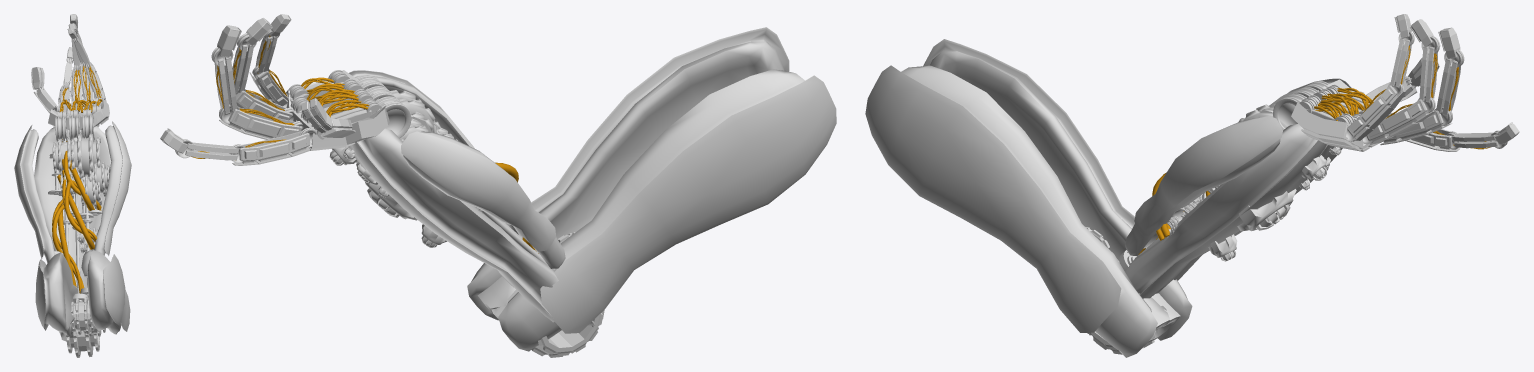
Rendered from arm.glb.
3 views of the same model, side by side, from view 1: azimuth 30°, elevation 25°; view 2: azimuth 150°, elevation 25°; view 3: azimuth 270°, elevation 25° (orthographic). The views are drawn at different scales.
Parts seen in each view (by area): view 1: Tube, Cube_1, Cube, Tube_3, Cylinder, Sweep_4, Sweep_1, brazo, mano, Sweep, Cube_6, Cube_2 (+7 smaller); view 2: Cube, Tube, Cube_1, Cylinder, Cube_3, Tube_3, Cube_4_4, mano, Cube_4_3, Cube_5, Cube_4_2, Cube_4_5 (+3 smaller); view 3: Cube_1, Tube, Cube, Cylinder, Cube_6, Cube_5, mano, Cube_4_3, Cube_4_4, Cube_4_5, Cube_3, Cube_4_2 (+1 smaller).
Boxes of the visible parts, left/top/right/bottom form: Tube: left=14, top=121, right=131, bottom=342; Cube_1: left=87, top=250, right=130, bottom=334; Cube: left=35, top=252, right=78, bottom=336; Tube_3: left=66, top=297, right=105, bottom=357; Cylinder: left=48, top=97, right=109, bottom=129; Sweep_4: left=52, top=199, right=84, bottom=293; Sweep_1: left=57, top=170, right=97, bottom=249; brazo: left=61, top=128, right=92, bottom=302; mano: left=55, top=114, right=94, bottom=141; Sweep: left=62, top=139, right=101, bottom=210; Cube_6: left=85, top=62, right=106, bottom=101; Cube_2: left=33, top=88, right=57, bottom=113; Cube: left=491, top=69, right=836, bottom=351; Tube: left=329, top=70, right=595, bottom=325; Cube_1: left=467, top=27, right=789, bottom=320; Cylinder: left=284, top=70, right=389, bottom=150; Cube_3: left=232, top=131, right=310, bottom=165; Tube_3: left=531, top=232, right=604, bottom=357; Cube_4_4: left=219, top=107, right=302, bottom=139; mano: left=357, top=75, right=411, bottom=138; Cube_4_3: left=214, top=56, right=237, bottom=114; Cube_5: left=236, top=89, right=292, bottom=120; Cube_4_2: left=185, top=142, right=239, bottom=160; Cube_4_5: left=232, top=44, right=253, bottom=93; Cube_1: left=865, top=65, right=1169, bottom=357; Tube: left=1117, top=78, right=1351, bottom=298; Cube: left=923, top=39, right=1192, bottom=342; Cylinder: left=1291, top=79, right=1386, bottom=151; Cube_6: left=1347, top=85, right=1405, bottom=140; Cube_5: left=1366, top=99, right=1435, bottom=144; mano: left=1273, top=81, right=1328, bottom=130; Cube_4_3: left=1436, top=57, right=1460, bottom=116; Cube_4_4: left=1380, top=110, right=1452, bottom=145; Cube_4_5: left=1419, top=46, right=1437, bottom=103; Cube_3: left=1405, top=129, right=1459, bottom=151; Cube_4_2: left=1451, top=132, right=1498, bottom=148.
Bounding box in the file's own units: 959 × 1055 × 1581.
